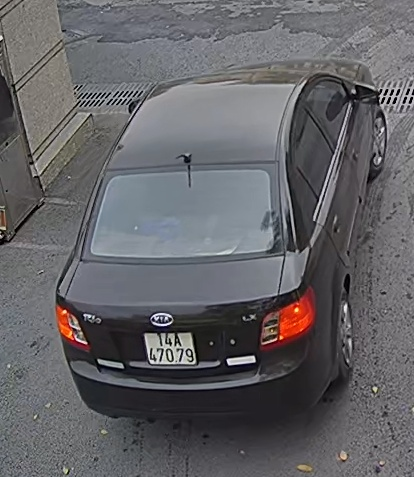vehicle plate: (138, 325, 199, 370)
